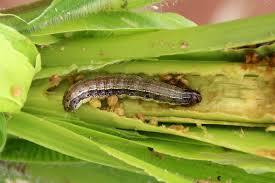fallarmy_worm: (55, 76, 215, 113)
